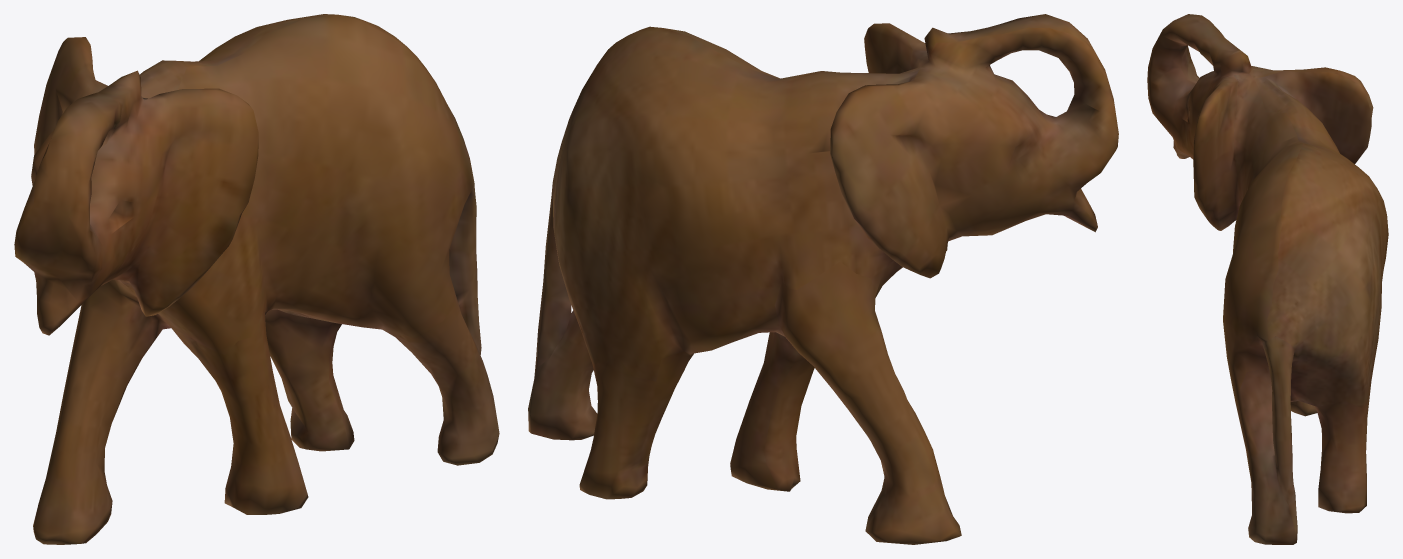
File: carved_wooden_elephant.glb
3 views of the same model, side by side, from view 1: azimuth 30°, elevation 25°; view 2: azimuth 150°, elevation 25°; view 3: azimuth 270°, elevation 25° (orthographic). The views are drawn at different scales.
Visible parts, largest first — view 1: carved_wooden_elephant; view 2: carved_wooden_elephant; view 3: carved_wooden_elephant.
Part boxes in pixels (x1,y1,x2,y2): carved_wooden_elephant: (14,14,499,544); carved_wooden_elephant: (528,14,1118,544); carved_wooden_elephant: (1147,14,1388,544).
Size of the model in its own units: 0.1092 by 0.0961 by 0.0576.
Materials: 1 (1 with a texture image).
